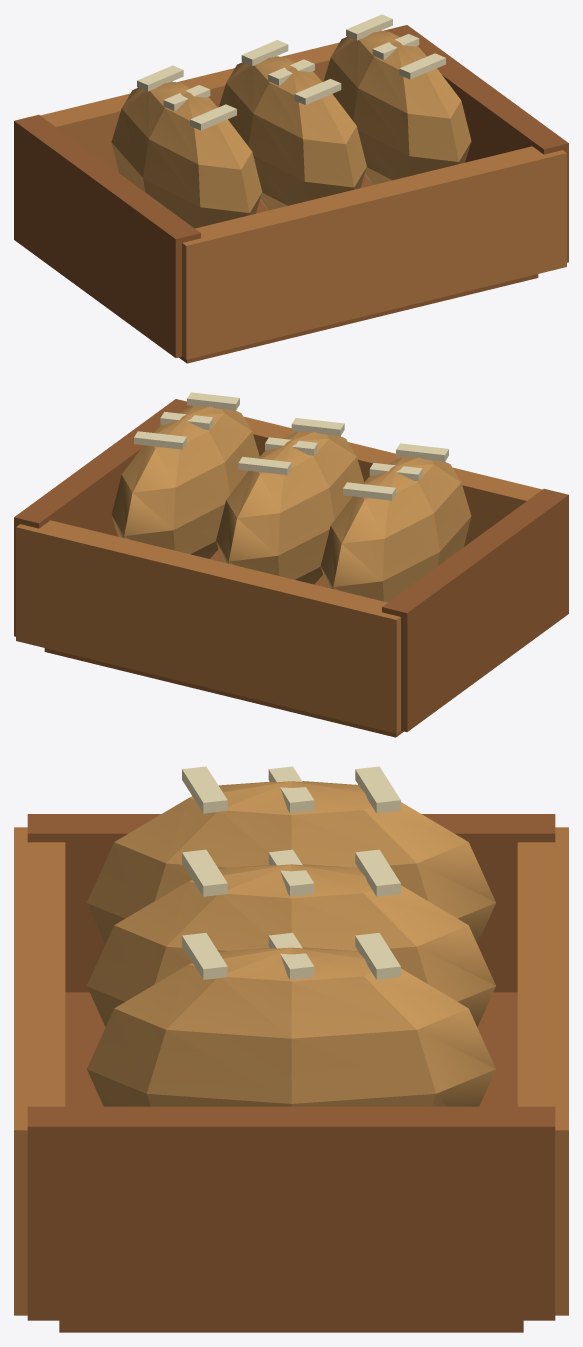
The model's file is 32_bread_basket.fbx.
3 views of the same model, one above another, from view 1: azimuth 30°, elevation 25°; view 2: azimuth 150°, elevation 25°; view 3: azimuth 270°, elevation 25° (orthographic). The views are drawn at different scales.
Visible parts, largest first — view 1: 32_bread_basket; view 2: 32_bread_basket; view 3: 32_bread_basket.
Boxes of the visible parts, left/top/right/bottom form: 32_bread_basket: left=14, top=14, right=568, bottom=363; 32_bread_basket: left=14, top=392, right=568, bottom=737; 32_bread_basket: left=14, top=766, right=568, bottom=1332.
Size of the model in its own units: 0.94 by 0.46 by 0.705.
Materials: 1 (1 with a texture image).
